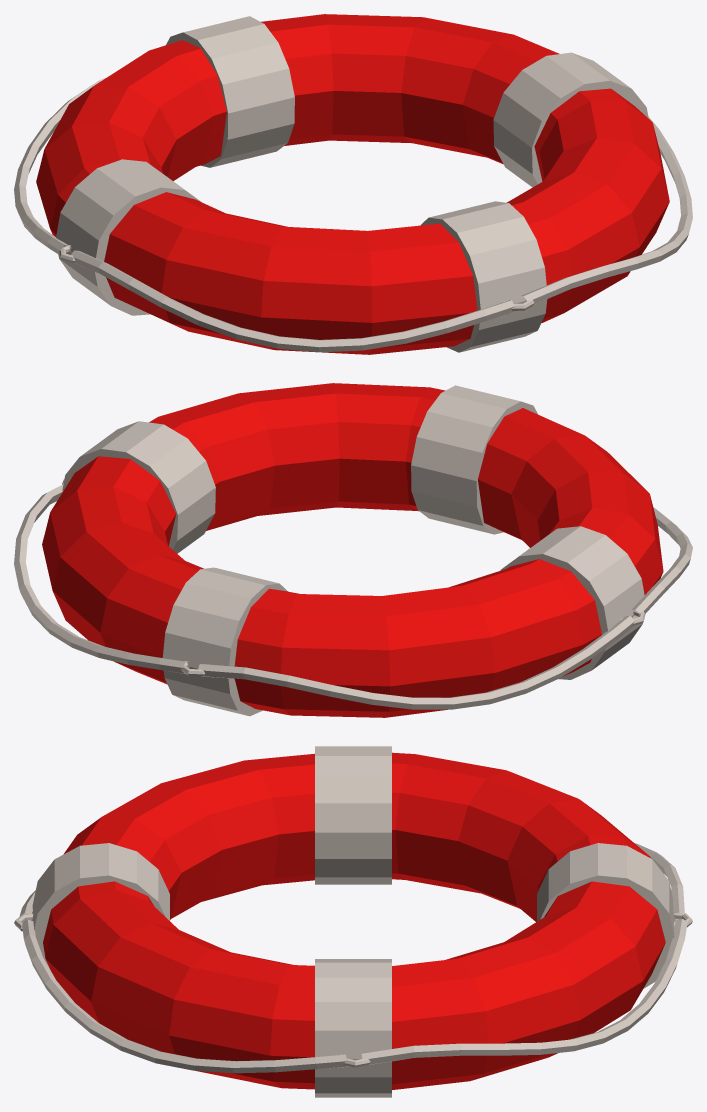
The model's file is LifeBuoy.fbx.
3 renders of one model, top to bottom at view 1: azimuth 30°, elevation 25°; view 2: azimuth 150°, elevation 25°; view 3: azimuth 270°, elevation 25°, orthographic.
Parts seen in each view (by area): view 1: LifeBuoy; view 2: LifeBuoy; view 3: LifeBuoy.
Part boxes in pixels (<box>): LifeBuoy: <box>14,14,692,354</box>; LifeBuoy: <box>14,383,692,717</box>; LifeBuoy: <box>14,746,692,1097</box>.
Bounding box in the file's own units: 11.48 × 11.48 × 2.34.
